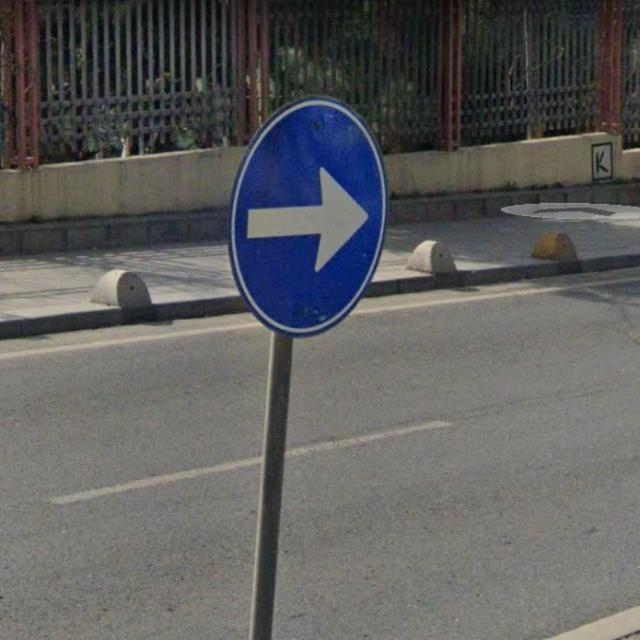Turn Right: (232, 96, 390, 339)
